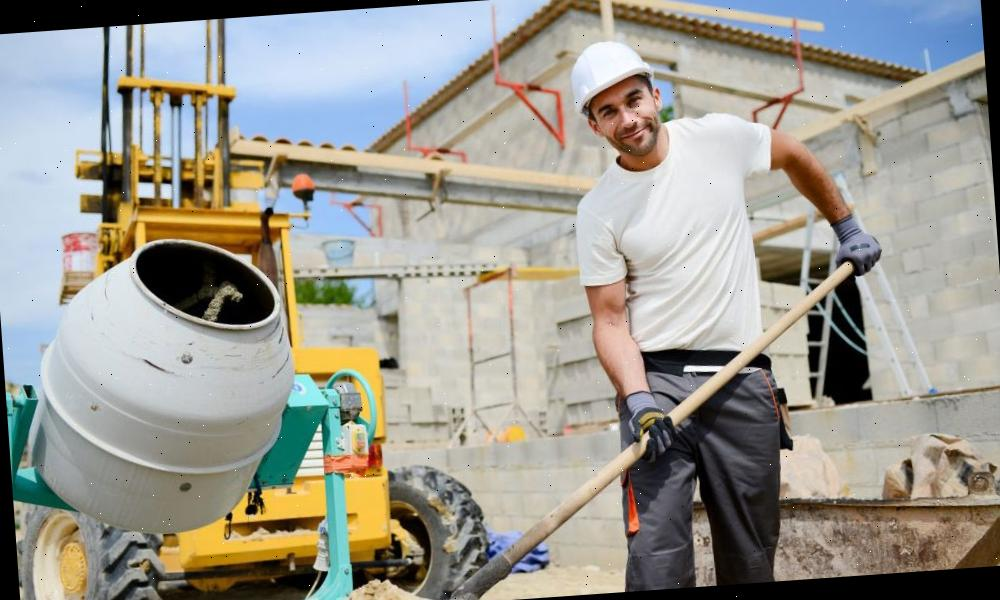helmet: (566, 36, 658, 116), (636, 412, 666, 424)
no_wear: (581, 146, 767, 384)
